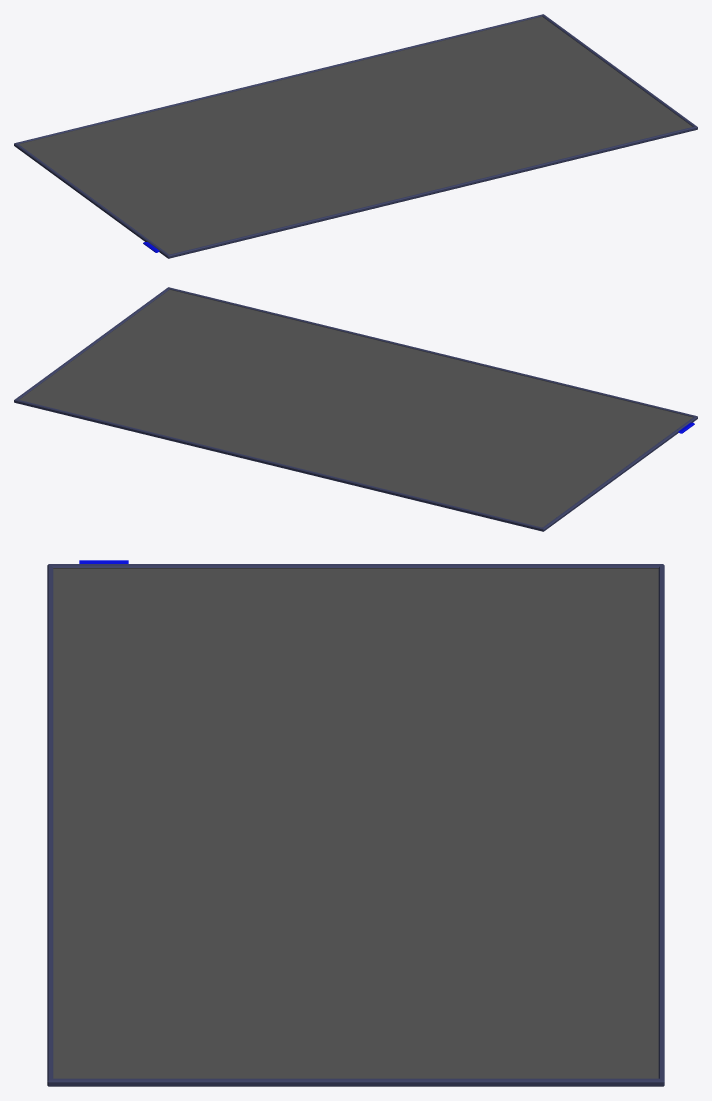
The model's file is mousepad.fbx.
3 views of the same model, one above another, from view 1: azimuth 30°, elevation 25°; view 2: azimuth 150°, elevation 25°; view 3: azimuth 270°, elevation 25° (orthographic). The views are drawn at different scales.
Visible parts, largest first — view 1: sm_mousepad; view 2: sm_mousepad; view 3: sm_mousepad.
Part boxes in pixels (x1,y1,x2,y2): sm_mousepad: (14, 14, 697, 258); sm_mousepad: (14, 287, 697, 531); sm_mousepad: (47, 560, 664, 1086).
Bounding box in the file's own units: 81.7 × 0.4644 × 40.84.
